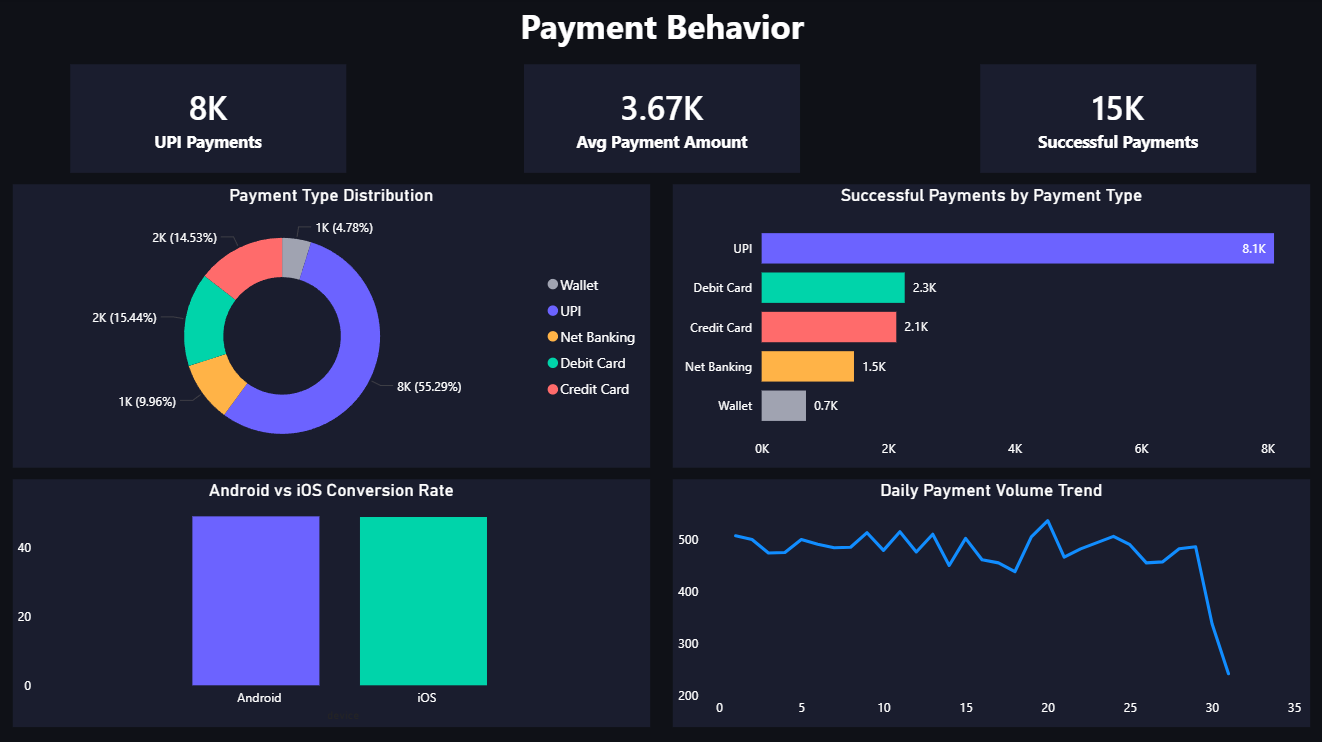

What the dashboard file says about the page in this screenshot:
{"tool":"powerbi","page":{"name":"Payment Behavior","canvas":[1280,720],"ordinal":2},"visuals":[{"type":"cardVisual","fields":{"Data":["fintech_funnel_events.UPI Payments"]},"box":[68.8,63.9,266.6,105],"z":0},{"type":"cardVisual","fields":{"Data":["fintech_funnel_events.Avg Payment Amount"]},"box":[506.7,63.9,266.6,105],"z":1000},{"type":"cardVisual","fields":{"Data":["fintech_funnel_events.Successful Payments"]},"box":[947.1,63.9,266.6,105],"z":2000},{"type":"donutChart","title":"Payment Type Distribution","fields":{"Y":["fintech_funnel_events.Total Sessions"],"Category":["fintech_funnel_events.payment_type"]},"box":[13.3,179.8,615.3,273.9],"z":3000},{"type":"clusteredBarChart","title":"Successful Payments by Payment Type","fields":{"Category":["fintech_funnel_events.payment_type"],"Y":["fintech_funnel_events.Successful Payments"]},"box":[650.3,179.8,615.3,273.9],"z":4000},{"type":"clusteredColumnChart","title":"Android vs iOS Conversion Rate","fields":{"Category":["fintech_funnel_events.device"],"Y":["fintech_funnel_events.Overall Conversion Rate"]},"box":[13.3,464.5,615.3,238.9],"z":5000},{"type":"lineChart","title":"Daily Payment Volume Trend","fields":{"Category":["fintech_funnel_events.timestamp.Variation.Date Hierarchy.Day"],"Y":["fintech_funnel_events.Successful Payments"]},"box":[650,464,615,239],"z":6000},{"type":"textbox","box":[0,0,1280,54.3],"z":7000}]}

Visuals, with their boxes in screenshot pixels (x1, y1, x2, y2), scaled from the page's 1280x720 canvas onto the 1322x742 screenshot:
cardVisual - fintech_funnel_events.UPI Payments: box(71, 66, 346, 174)
cardVisual - fintech_funnel_events.Avg Payment Amount: box(523, 66, 799, 174)
cardVisual - fintech_funnel_events.Successful Payments: box(978, 66, 1254, 174)
"Payment Type Distribution" donutChart: box(14, 185, 649, 468)
"Successful Payments by Payment Type" clusteredBarChart: box(672, 185, 1307, 468)
"Android vs iOS Conversion Rate" clusteredColumnChart: box(14, 479, 649, 725)
"Daily Payment Volume Trend" lineChart: box(671, 478, 1307, 724)
textbox: box(0, 0, 1321, 56)
